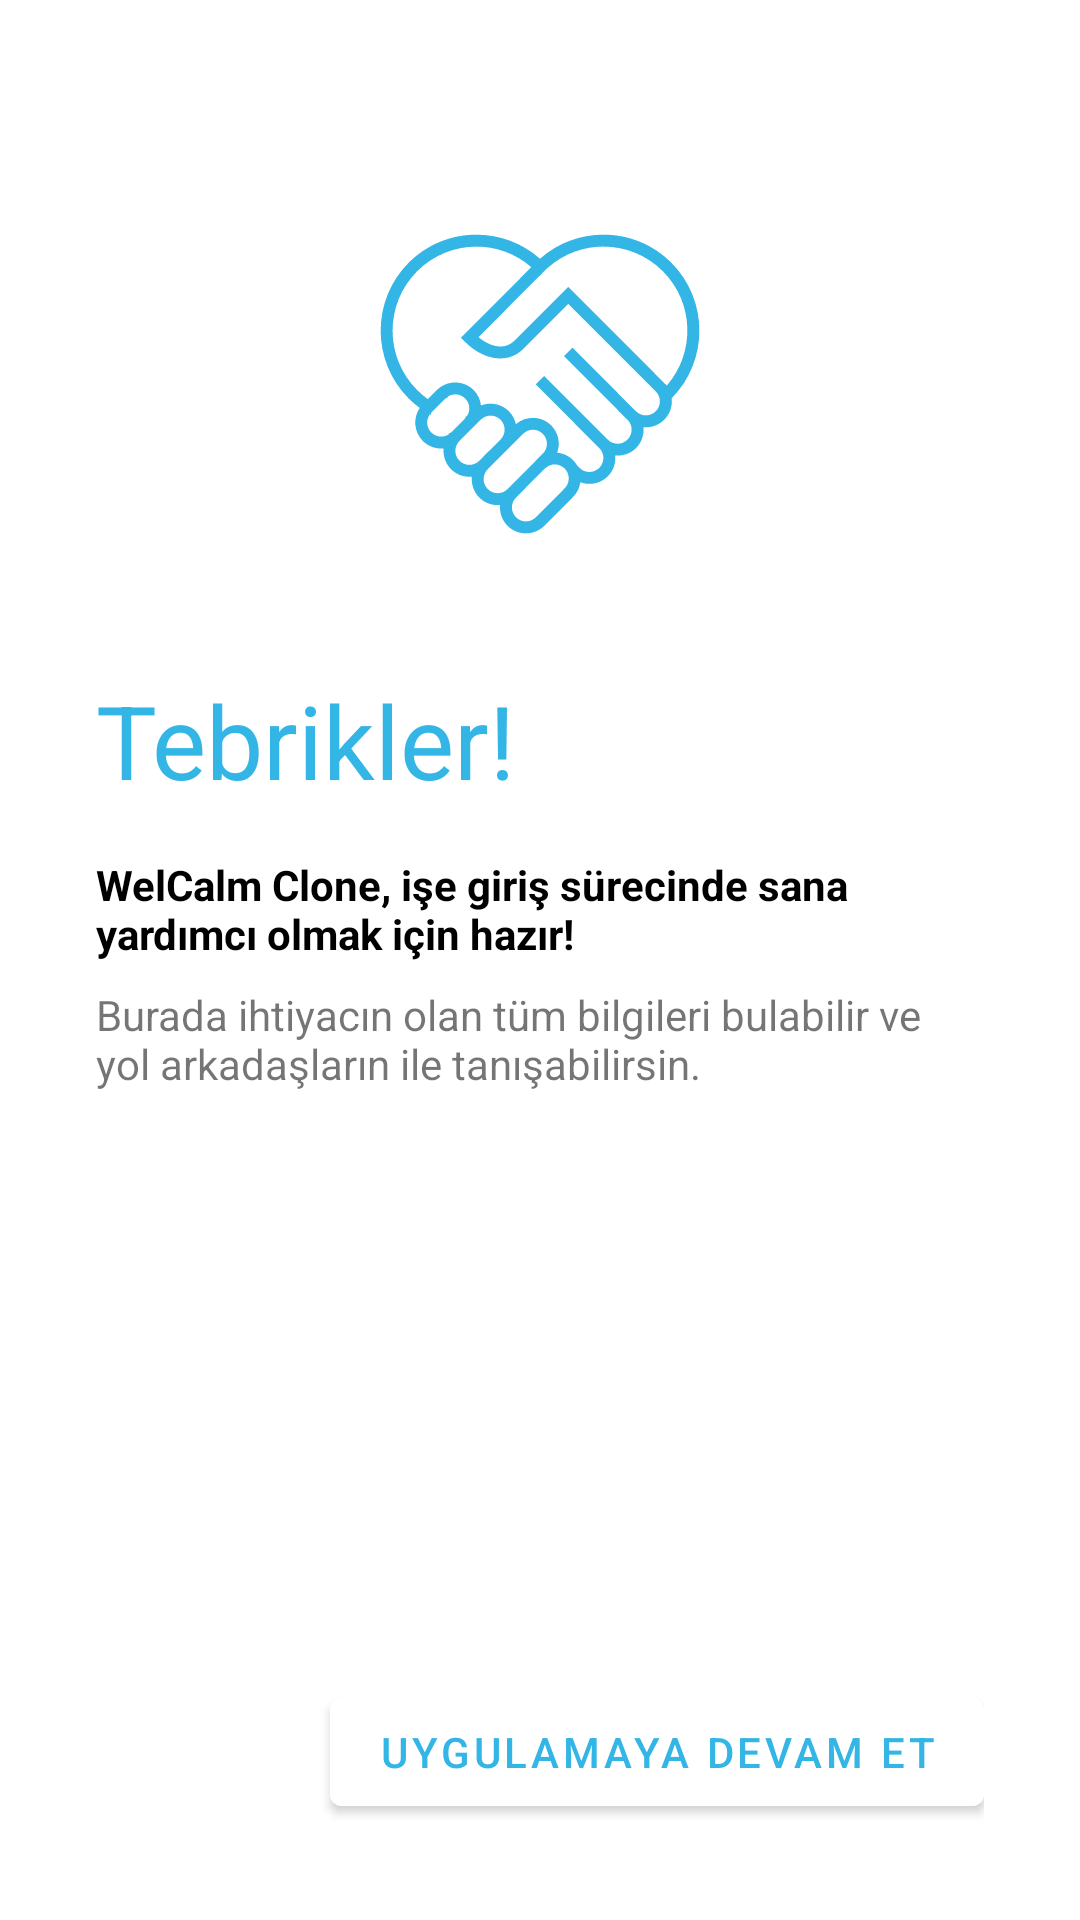

Named icons in this screenshot (1080 x 1920) and their bounding boxes, (x1, y1, x2, y2):
hand: (380, 234, 700, 534)
